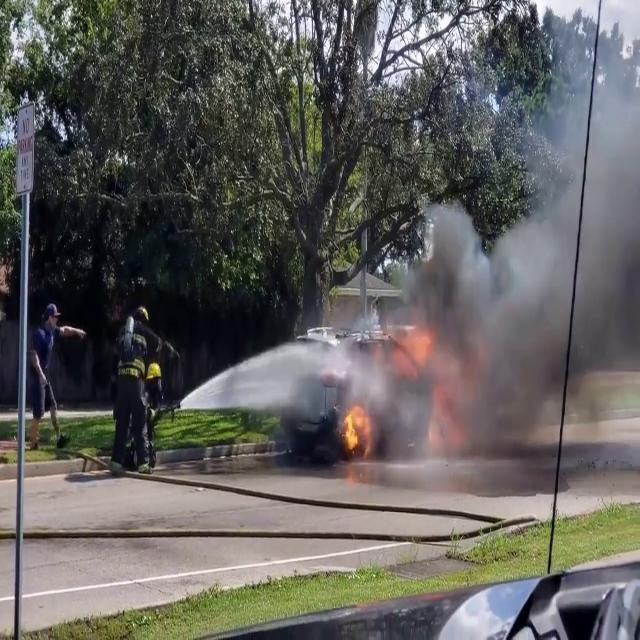Fire: (340, 398, 376, 461)
Smoke: (362, 5, 640, 488)
